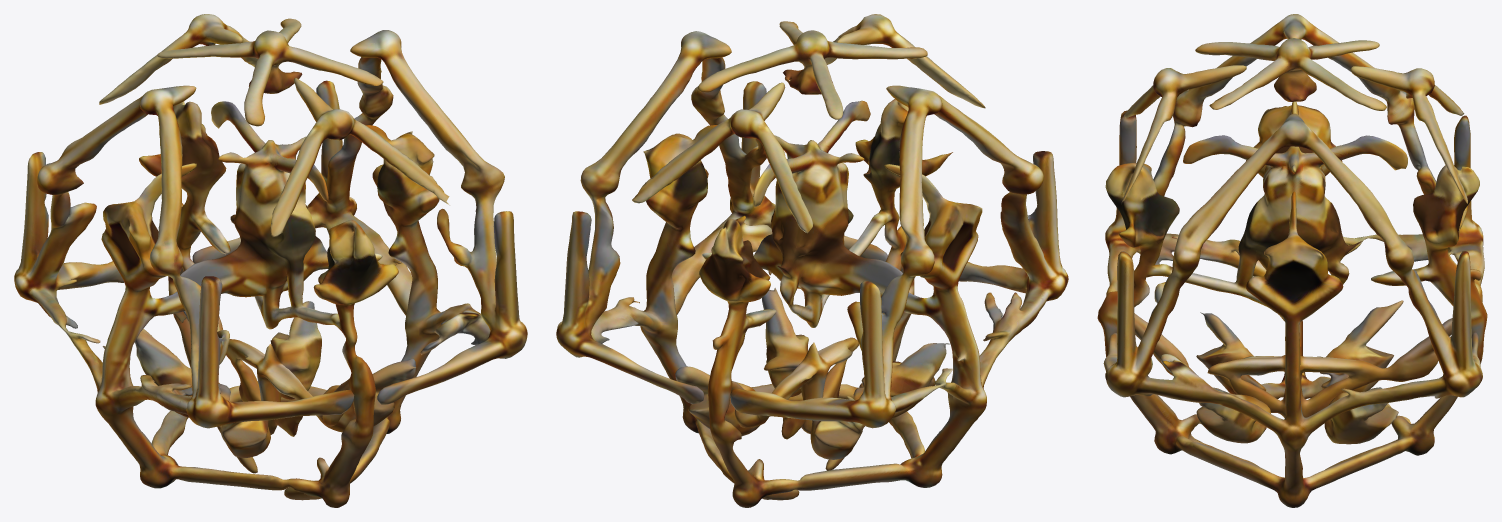
The model's file is dodecahedron_3d.glb.
The picture shows the model from 3 angles, left to right: view 1: azimuth 30°, elevation 25°; view 2: azimuth 150°, elevation 25°; view 3: azimuth 270°, elevation 25°; orthographic projection. The views are drawn at different scales.
Visible parts, largest first — view 1: tripo_node_4fcb8059-af30-4c54-b75b-ef77de4e85d7; view 2: tripo_node_4fcb8059-af30-4c54-b75b-ef77de4e85d7; view 3: tripo_node_4fcb8059-af30-4c54-b75b-ef77de4e85d7.
Part boxes in pixels (left/top/right/bottom): tripo_node_4fcb8059-af30-4c54-b75b-ef77de4e85d7: left=14, top=14, right=527, bottom=507; tripo_node_4fcb8059-af30-4c54-b75b-ef77de4e85d7: left=556, top=14, right=1068, bottom=507; tripo_node_4fcb8059-af30-4c54-b75b-ef77de4e85d7: left=1097, top=14, right=1487, bottom=507.
Size of the model in its own units: 0.5917 by 0.7287 by 0.589.
1 material, 1 textured.
